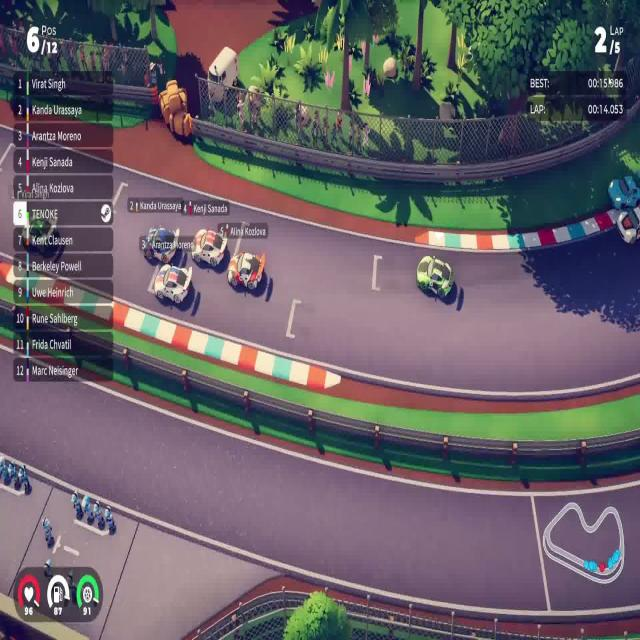car: (415, 253, 454, 300), (226, 249, 266, 292), (153, 262, 193, 305), (139, 225, 180, 264), (192, 229, 228, 269)
